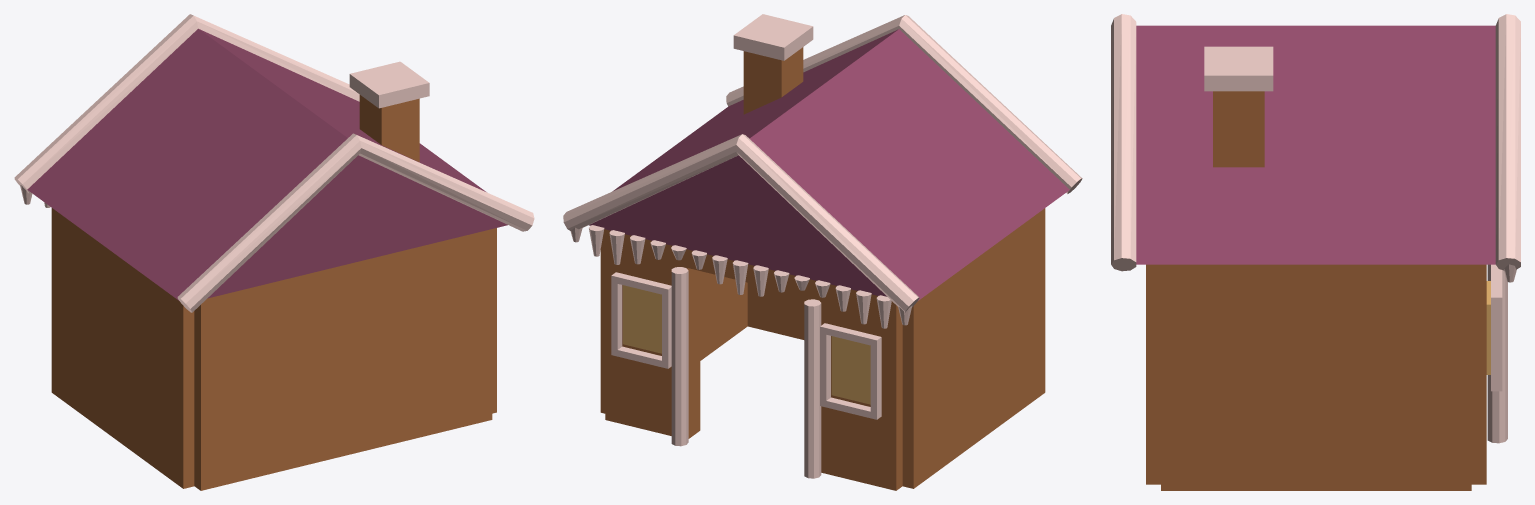
The model's file is Cottage.obj.
3 renders of one model, left to right at view 1: azimuth 30°, elevation 25°; view 2: azimuth 150°, elevation 25°; view 3: azimuth 270°, elevation 25°, orthographic. The views are drawn at different scales.
Visible parts, largest first — view 1: Cottage; view 2: Cottage; view 3: Cottage.
Boxes of the visible parts, x1=… form: Cottage: x1=14, y1=14, x2=534, y2=490; Cottage: x1=563, y1=14, x2=1082, y2=490; Cottage: x1=1111, y1=14, x2=1520, y2=490.
Size of the model in its own units: 5.56 by 4.95 by 4.75.
